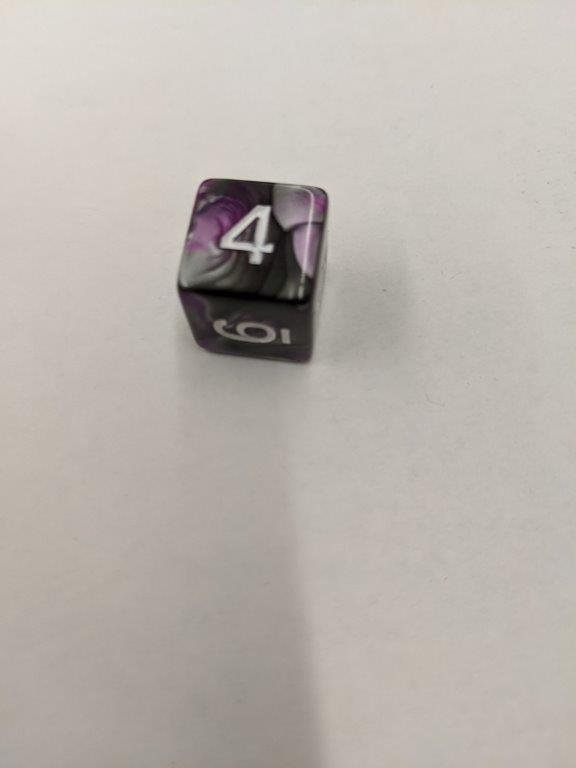d6-4: (174, 177, 333, 366)
